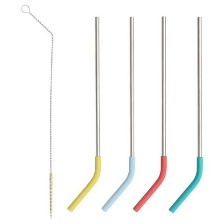drinking_straw: (59, 12, 107, 215), (166, 13, 208, 217), (129, 14, 170, 214), (99, 13, 137, 216)
